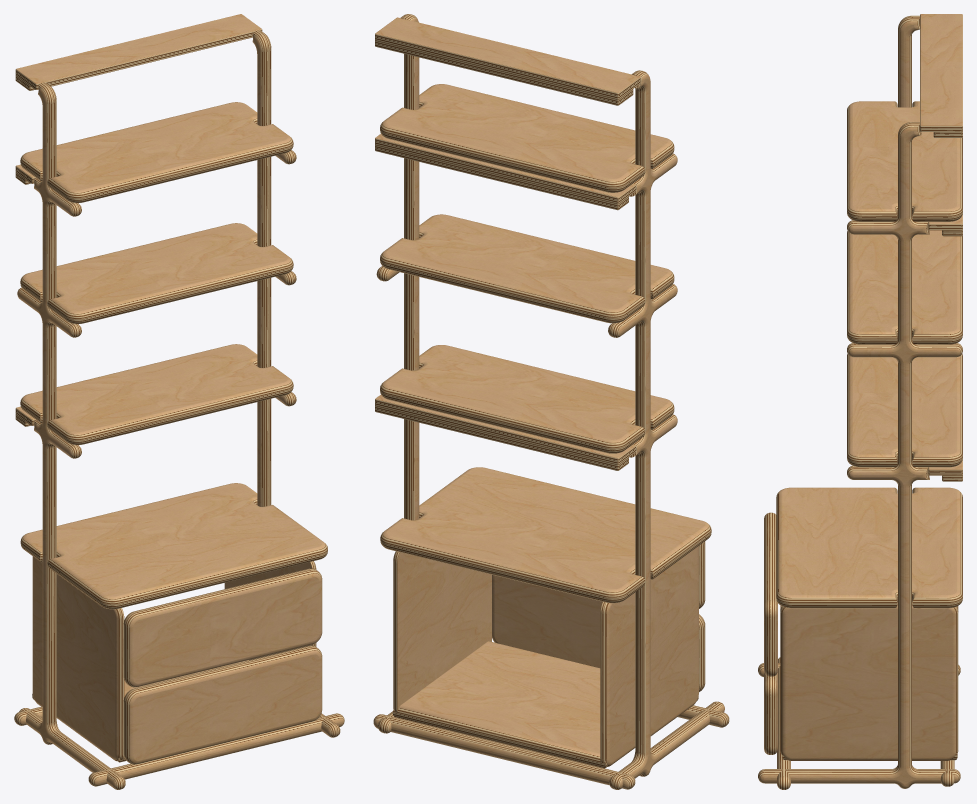
File: tower.glb
3 views of the same model, side by side, from view 1: azimuth 30°, elevation 25°; view 2: azimuth 150°, elevation 25°; view 3: azimuth 270°, elevation 25° (orthographic). The views are drawn at different scales.
Parts seen in each view (by area): view 1: Tower: cabinet_top, Tower: drawer_front_2, Tower: drawer_front_1, Tower: shelf_3, Tower: shelf_1, Tower: shelf_2, Tower: upright_L, Tower: cabinet_side_L, Tower: upright_R, Tower: top_rail_upper, Tower: base_front_rail, Tower: cabinet_side_R; view 2: Tower: cabinet_top, Tower: shelf_1, Tower: shelf_3, Tower: shelf_2, Tower: cabinet_bottom, Tower: upright_L, Tower: cabinet_side_L, Tower: cabinet_side_R, Tower: drawer_front_1, Tower: top_rail_upper, Tower: upright_R, Tower: base_back_rail (+5 smaller); view 3: Tower: cabinet_side_R, Tower: cabinet_top, Tower: upright_R, Tower: shelf_1, Tower: shelf_2, Tower: shelf_3, Tower: top_rail_upper, Tower: drawer_front_2, Tower: upright_L, Tower: drawer_front_1, Tower: base_front_rail.
Boxes of the visible parts, x1,y1,x2,y2 form: Tower: cabinet_top: (20, 483, 327, 609); Tower: drawer_front_2: (123, 568, 322, 687); Tower: drawer_front_1: (123, 645, 322, 764); Tower: shelf_3: (20, 102, 293, 203); Tower: shelf_1: (20, 344, 293, 445); Tower: shelf_2: (20, 223, 293, 324); Tower: upright_L: (17, 82, 125, 789); Tower: cabinet_side_L: (32, 556, 124, 761); Tower: upright_R: (252, 30, 340, 737); Tower: top_rail_upper: (15, 14, 262, 89); Tower: base_front_rail: (88, 713, 344, 786); Tower: cabinet_side_R: (224, 561, 316, 660); Tower: cabinet_top: (380, 467, 711, 603); Tower: shelf_1: (380, 345, 674, 453); Tower: shelf_3: (380, 84, 674, 192); Tower: shelf_2: (380, 214, 674, 323); Tower: cabinet_bottom: (392, 641, 698, 768); Tower: upright_L: (608, 70, 724, 789); Tower: cabinet_side_L: (600, 546, 698, 766); Tower: cabinet_side_R: (393, 551, 491, 712); Tower: drawer_front_1: (492, 575, 705, 691); Tower: top_rail_upper: (375, 17, 640, 99); Tower: upright_R: (376, 14, 419, 733); Tower: base_back_rail: (373, 714, 635, 789); Tower: cabinet_side_R: (780, 602, 958, 760); Tower: cabinet_top: (776, 487, 962, 608); Tower: upright_R: (758, 122, 962, 788); Tower: shelf_1: (847, 353, 962, 467); Tower: shelf_2: (847, 230, 962, 344); Tower: shelf_3: (847, 101, 962, 221); Tower: top_rail_upper: (920, 14, 962, 131); Tower: drawer_front_2: (764, 512, 777, 676); Tower: upright_L: (758, 15, 960, 676); Tower: drawer_front_1: (764, 671, 777, 754); Tower: base_front_rail: (777, 657, 790, 789).
Bounding box in the file's own units: 0.7801 × 1.93 × 0.5382.
2 materials, 2 textured.
